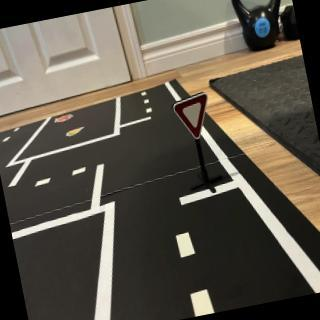sign_yield: (172, 93, 216, 144)
